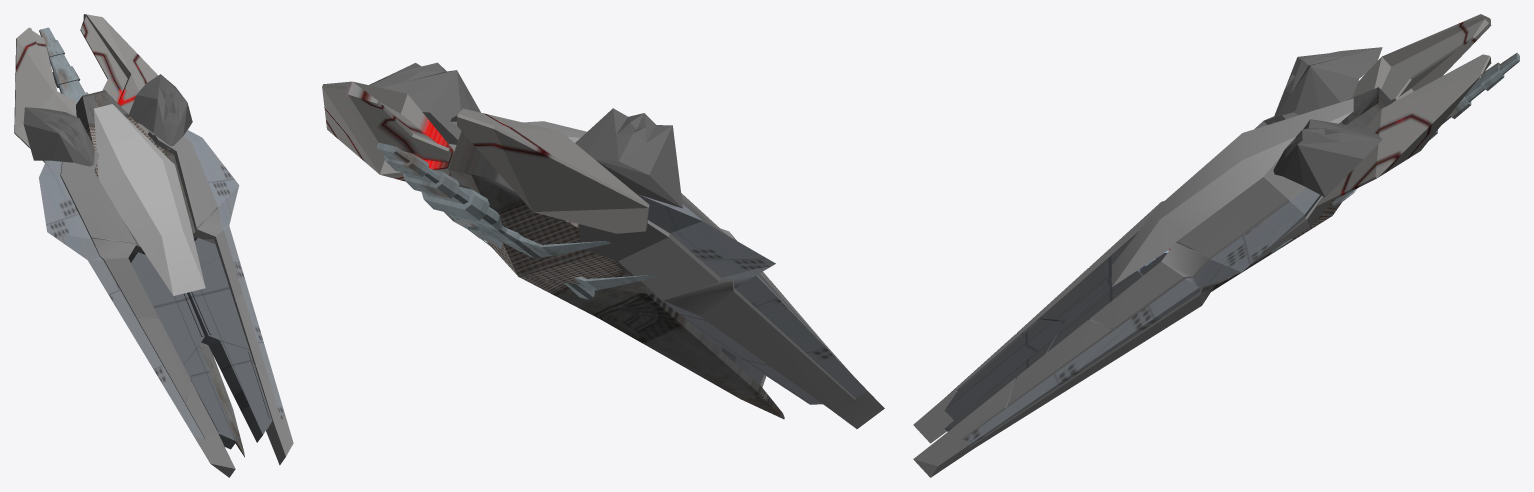
3 renders of one model, left to right at view 1: azimuth 30°, elevation 25°; view 2: azimuth 150°, elevation 25°; view 3: azimuth 270°, elevation 25°, orthographic. The views are drawn at different scales.
Visible parts, largest first — view 1: hane1:polySurface3334, hane1:polySurface3333; view 2: hane1:polySurface3334; view 3: hane1:polySurface3334, hane1:polySurface3333.
Boxes of the visible parts, left/top/right/bottom form: hane1:polySurface3334: left=14, top=14, right=293, bottom=477; hane1:polySurface3333: left=93, top=104, right=205, bottom=295; hane1:polySurface3334: left=322, top=62, right=884, bottom=428; hane1:polySurface3334: left=913, top=14, right=1519, bottom=477; hane1:polySurface3333: left=1112, top=98, right=1353, bottom=286.
Bounding box in the file's own units: 3.97 × 6.03 × 7.77.
